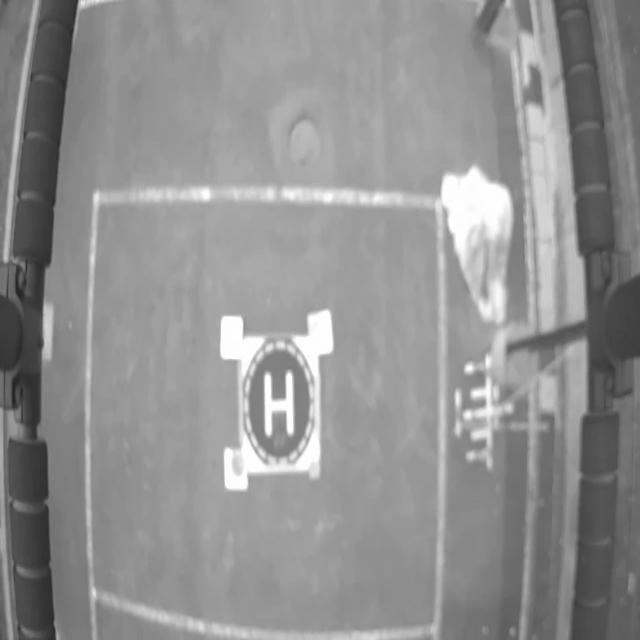Helipad: (264, 368, 295, 438)
